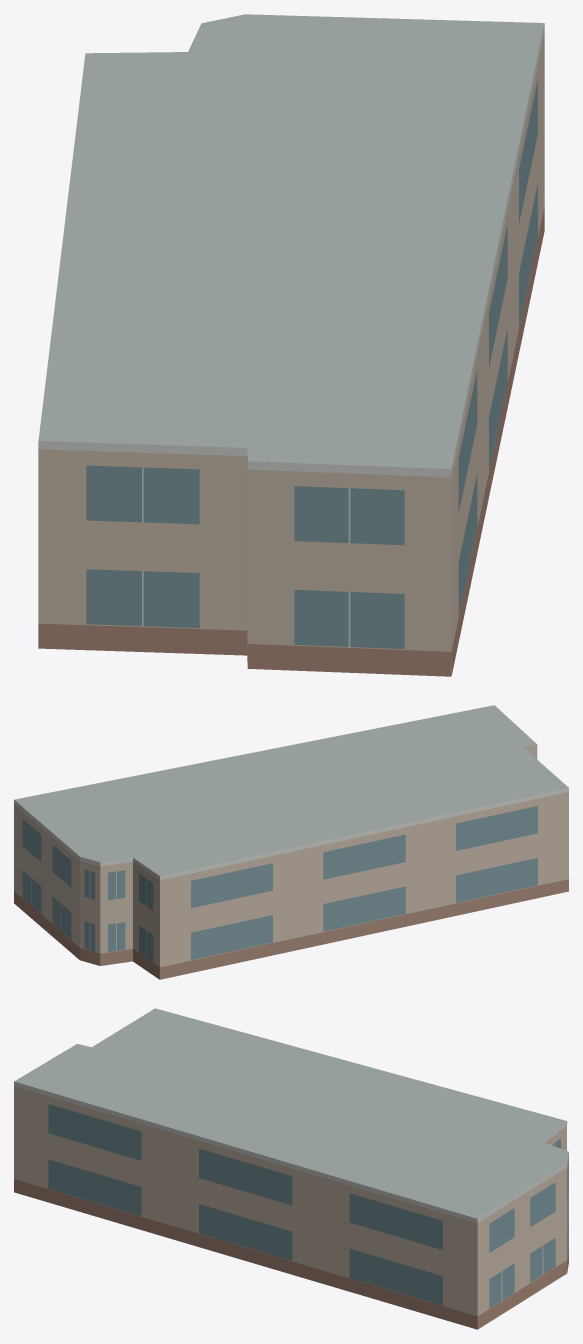
File: survey-upis-32545483.glb
The picture shows the model from 3 angles, top to bottom: view 1: azimuth 30°, elevation 25°; view 2: azimuth 150°, elevation 25°; view 3: azimuth 270°, elevation 25°; orthographic projection. The views are drawn at different scales.
Parts seen in each view (by area): view 1: survey-upis-32545483.tmp; view 2: survey-upis-32545483.tmp; view 3: survey-upis-32545483.tmp.
Part boxes in pixels (<box>): survey-upis-32545483.tmp: <box>38,14,544,676</box>; survey-upis-32545483.tmp: <box>14,705,568,979</box>; survey-upis-32545483.tmp: <box>14,1008,568,1329</box>.
Size of the model in its own units: 24.87 by 6.1 by 27.69.
